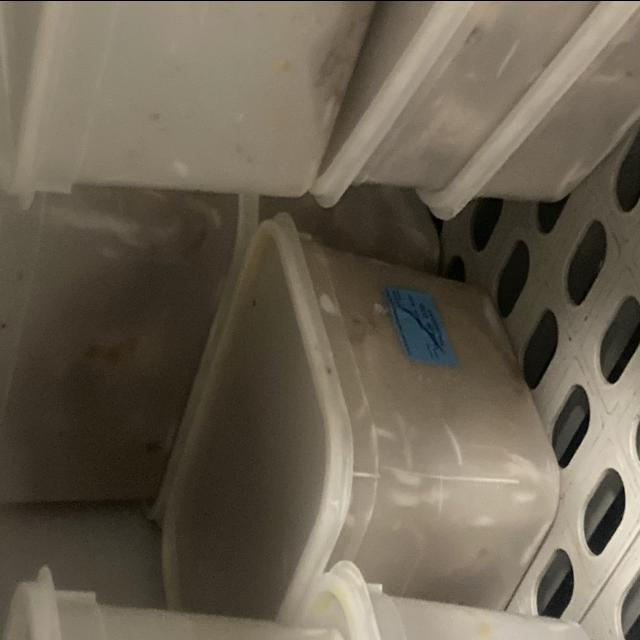product-labels: (380, 269, 459, 383)
